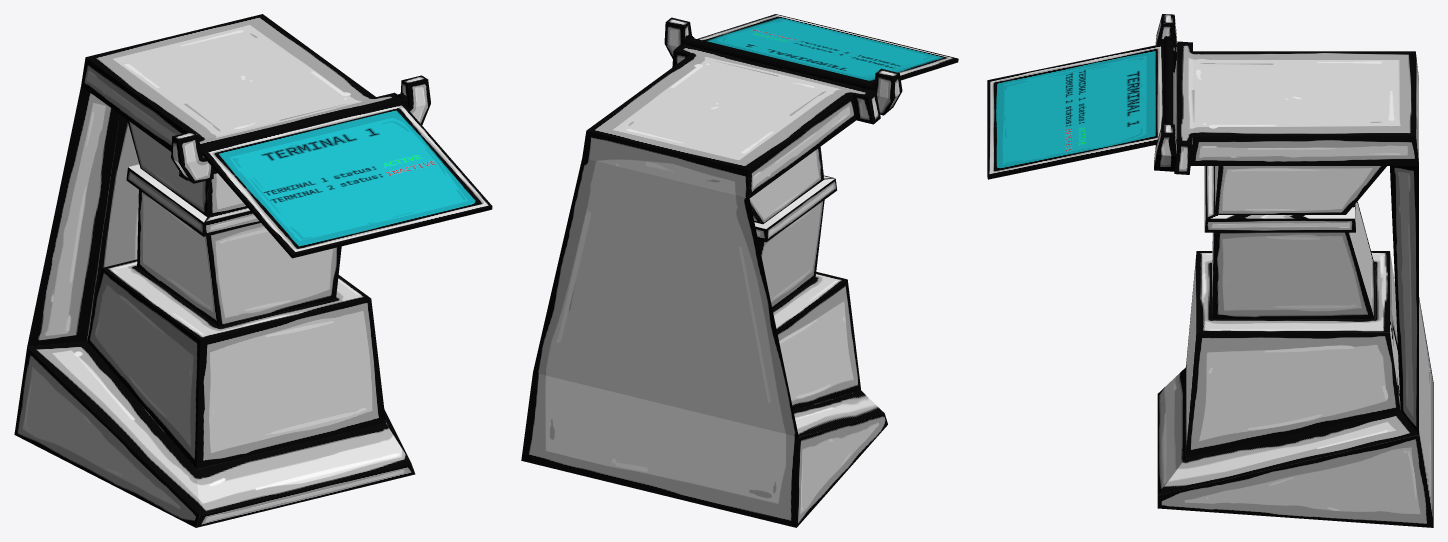
The model's file is terminal.fbx.
The picture shows the model from 3 angles, left to right: view 1: azimuth 30°, elevation 25°; view 2: azimuth 150°, elevation 25°; view 3: azimuth 270°, elevation 25°; orthographic projection. The views are drawn at different scales.
Parts seen in each view (by area): view 1: terminal base, term.001; view 2: terminal base, term.001; view 3: terminal base, term.001.
Boxes of the visible parts, x1,y1,x2,y2 form: terminal base: (14, 14, 430, 527); term.001: (200, 93, 492, 258); terminal base: (521, 17, 902, 527); term.001: (683, 14, 958, 91); terminal base: (1154, 14, 1433, 527); term.001: (987, 35, 1175, 179).
Bounding box in the file's own units: 173 × 214 × 227.
